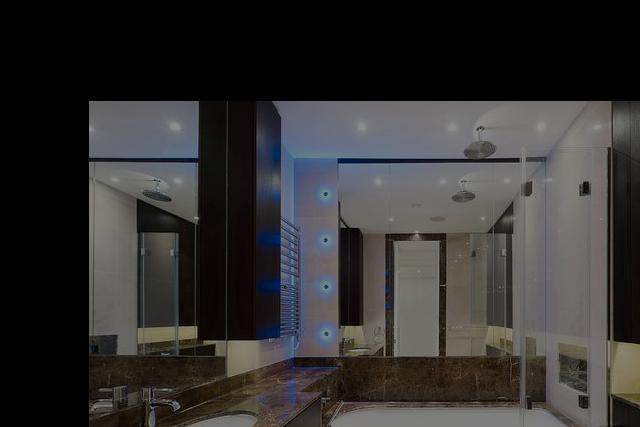Lavamanos: (135, 386, 255, 427)
